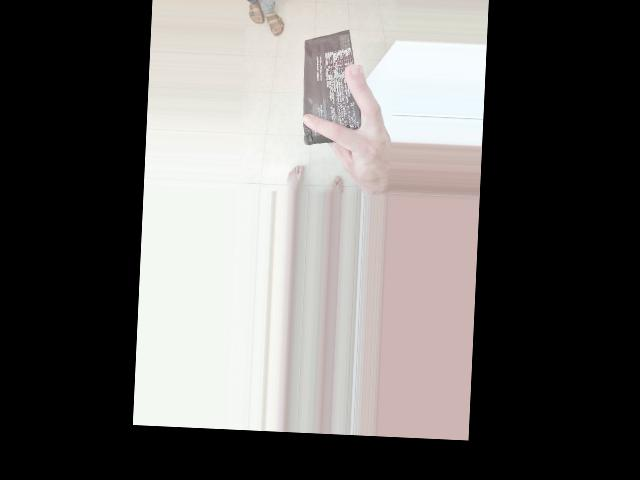chocolate: (228, 44, 364, 123)
